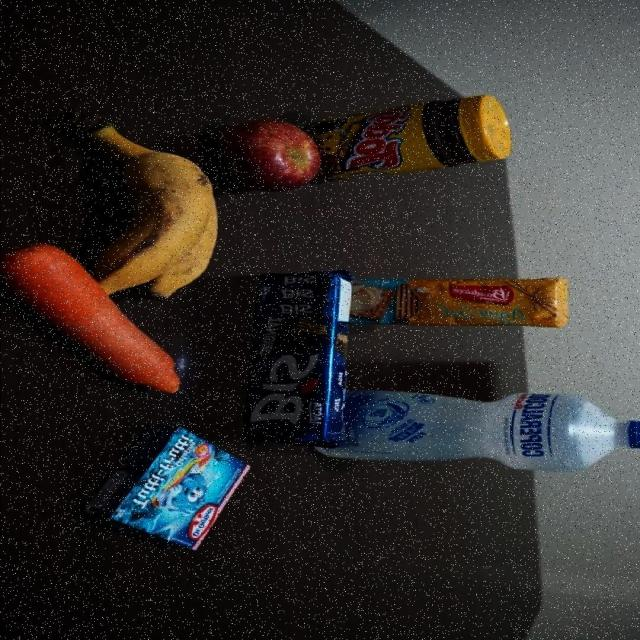AlcoholBottle: (356, 386, 640, 466)
Apple: (224, 116, 318, 196)
Banana: (35, 102, 217, 294)
Carrot: (25, 300, 195, 401)
ChocolatePowder: (321, 96, 511, 176)
Cracker: (355, 279, 565, 328)
Gelatine: (77, 426, 250, 544)
